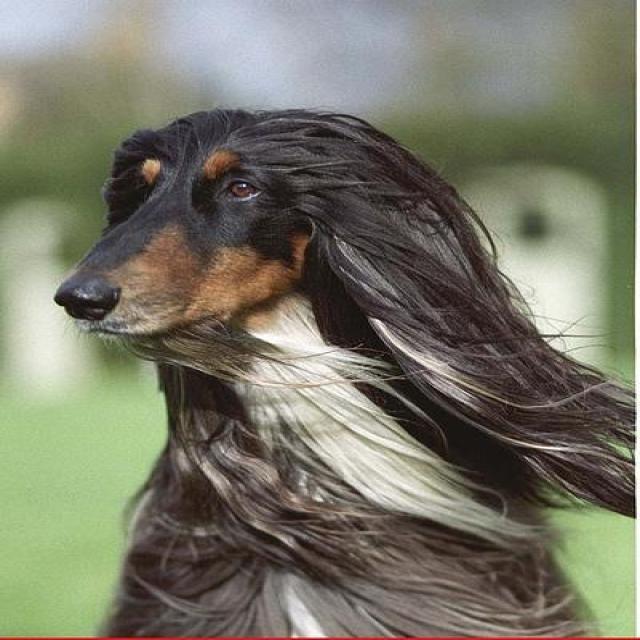afghan_hound: (53, 105, 637, 637)
